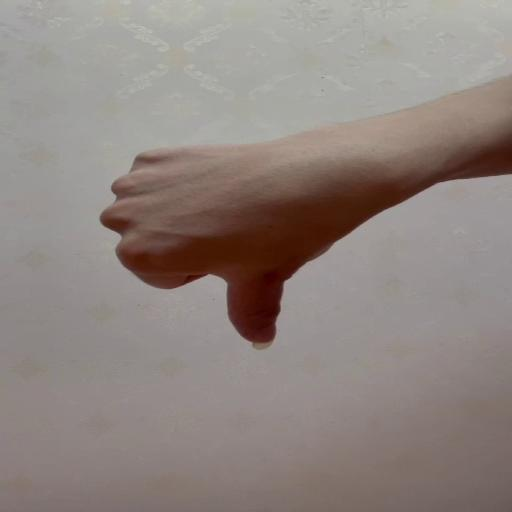thumbs_down: (99, 143, 404, 351)
